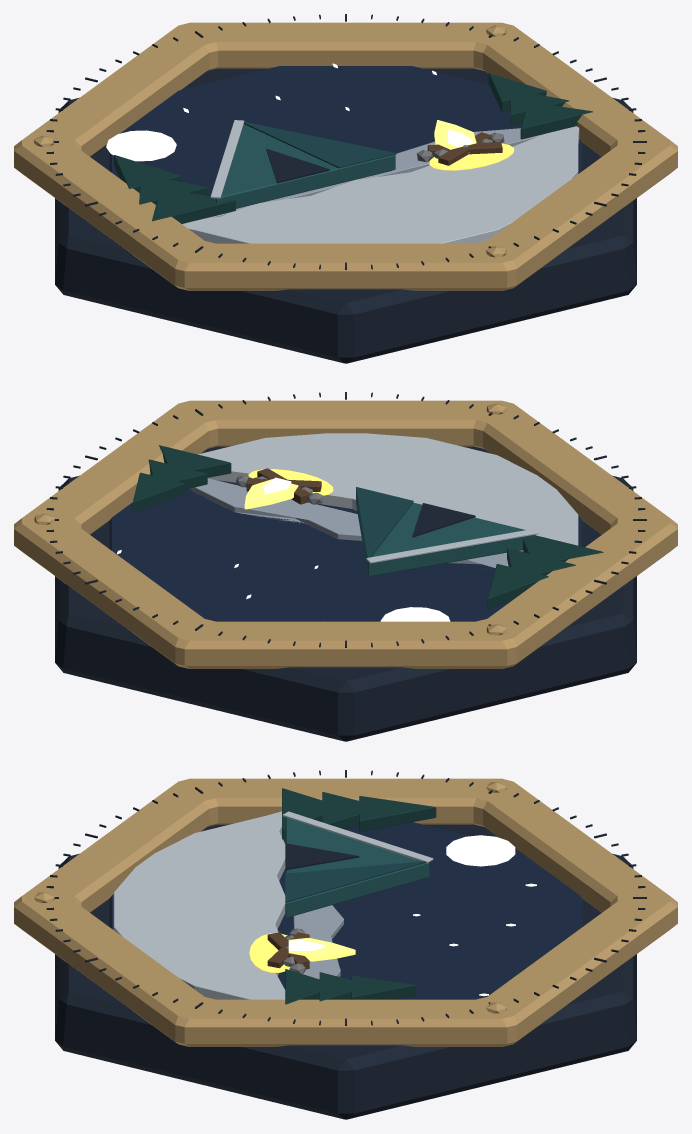
File: trail_camp.glb
3 views of the same model, one above another, from view 1: azimuth 30°, elevation 25°; view 2: azimuth 150°, elevation 25°; view 3: azimuth 270°, elevation 25° (orthographic).
Parts seen in each view (by area): view 1: BG_FrameRing, BG_BasePlate, BG_Field, SC_Ground, TC_Tent, TC_PineL, TC_PineR, TC_TentShade, TC_Moon, SC_FarRidge, BG_TickScale, TC_TentDoor (+5 smaller); view 2: BG_FrameRing, BG_BasePlate, BG_Field, SC_Ground, TC_Tent, SC_FarRidge, TC_PineL, TC_PineR, TC_TentShade, BG_TickScale, TC_TentRidge, TC_TentDoor (+5 smaller); view 3: BG_FrameRing, BG_BasePlate, BG_Field, SC_Ground, TC_Tent, TC_PineL, TC_PineR, TC_TentShade, SC_FarRidge, TC_Moon, BG_TickScale, TC_TentDoor (+5 smaller).
Part boxes in pixels (box(x1,y1,x2,y2)): BG_FrameRing: box(14, 22, 677, 290); BG_BasePlate: box(55, 68, 636, 363); BG_Field: box(109, 66, 582, 196); SC_Ground: box(182, 126, 579, 243); TC_Tent: box(216, 124, 395, 208); TC_PineL: box(114, 155, 235, 223); TC_PineR: box(488, 73, 592, 139); TC_TentShade: box(244, 121, 396, 168); TC_Moon: box(106, 130, 176, 161); SC_FarRidge: box(205, 128, 543, 218); BG_TickScale: box(46, 14, 646, 269); TC_TentDoor: box(266, 148, 329, 183); BG_FrameRing: box(14, 400, 677, 668); BG_BasePlate: box(55, 446, 636, 741); BG_Field: box(109, 480, 582, 621); SC_Ground: box(198, 433, 578, 551); TC_Tent: box(356, 490, 535, 576); SC_FarRidge: box(189, 478, 508, 569); TC_PineL: box(487, 535, 603, 609); TC_PineR: box(132, 445, 231, 512); TC_TentShade: box(356, 487, 413, 557); BG_TickScale: box(46, 392, 646, 647); TC_TentRidge: box(366, 528, 538, 563); TC_TentDoor: box(412, 503, 475, 537); BG_FrameRing: box(14, 778, 677, 1046); BG_BasePlate: box(55, 824, 636, 1119); BG_Field: box(109, 822, 582, 999); SC_Ground: box(113, 811, 285, 999); TC_Tent: box(285, 817, 429, 917); TC_PineL: box(282, 788, 436, 839); TC_PineR: box(285, 969, 416, 1004); TC_TentShade: box(285, 861, 425, 902); SC_FarRidge: box(293, 905, 343, 979); TC_Moon: box(446, 835, 515, 866); BG_TickScale: box(46, 770, 646, 1025); TC_TentDoor: box(285, 843, 359, 870).
Size of the model in its own units: 0.0393 by 0.00594 by 0.0394.
